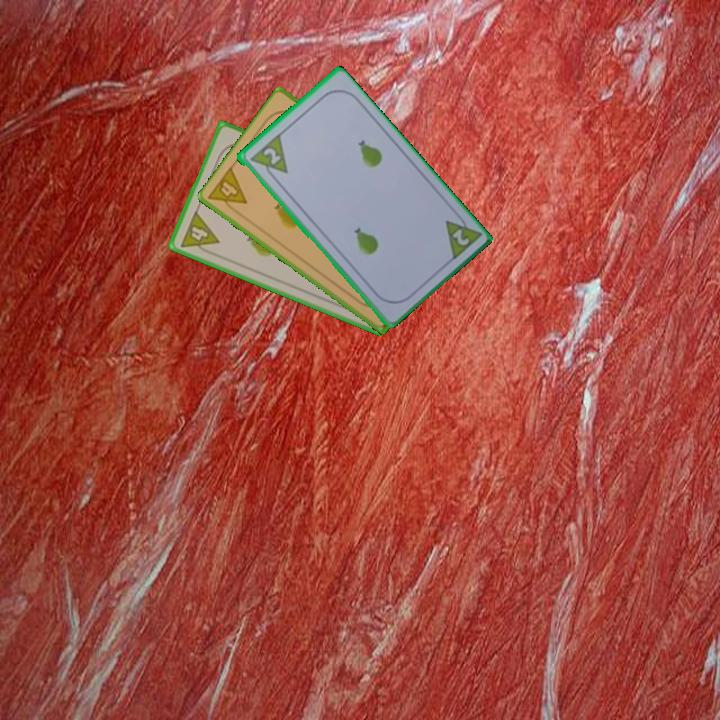2p: (245, 131, 290, 185), (448, 225, 472, 249)
4p: (205, 163, 250, 219), (177, 207, 222, 259)
